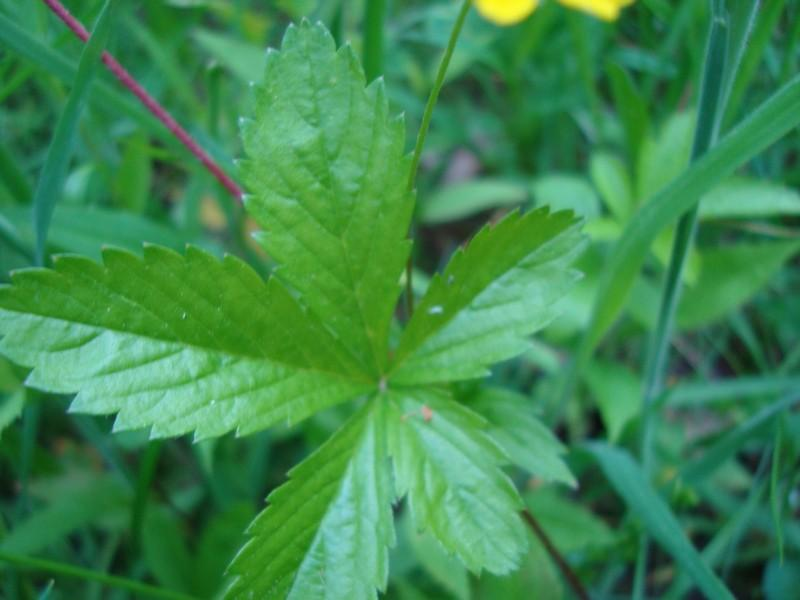Strawberry leaf: (1, 244, 390, 450), (249, 2, 434, 372), (392, 186, 597, 400), (231, 390, 405, 600)
